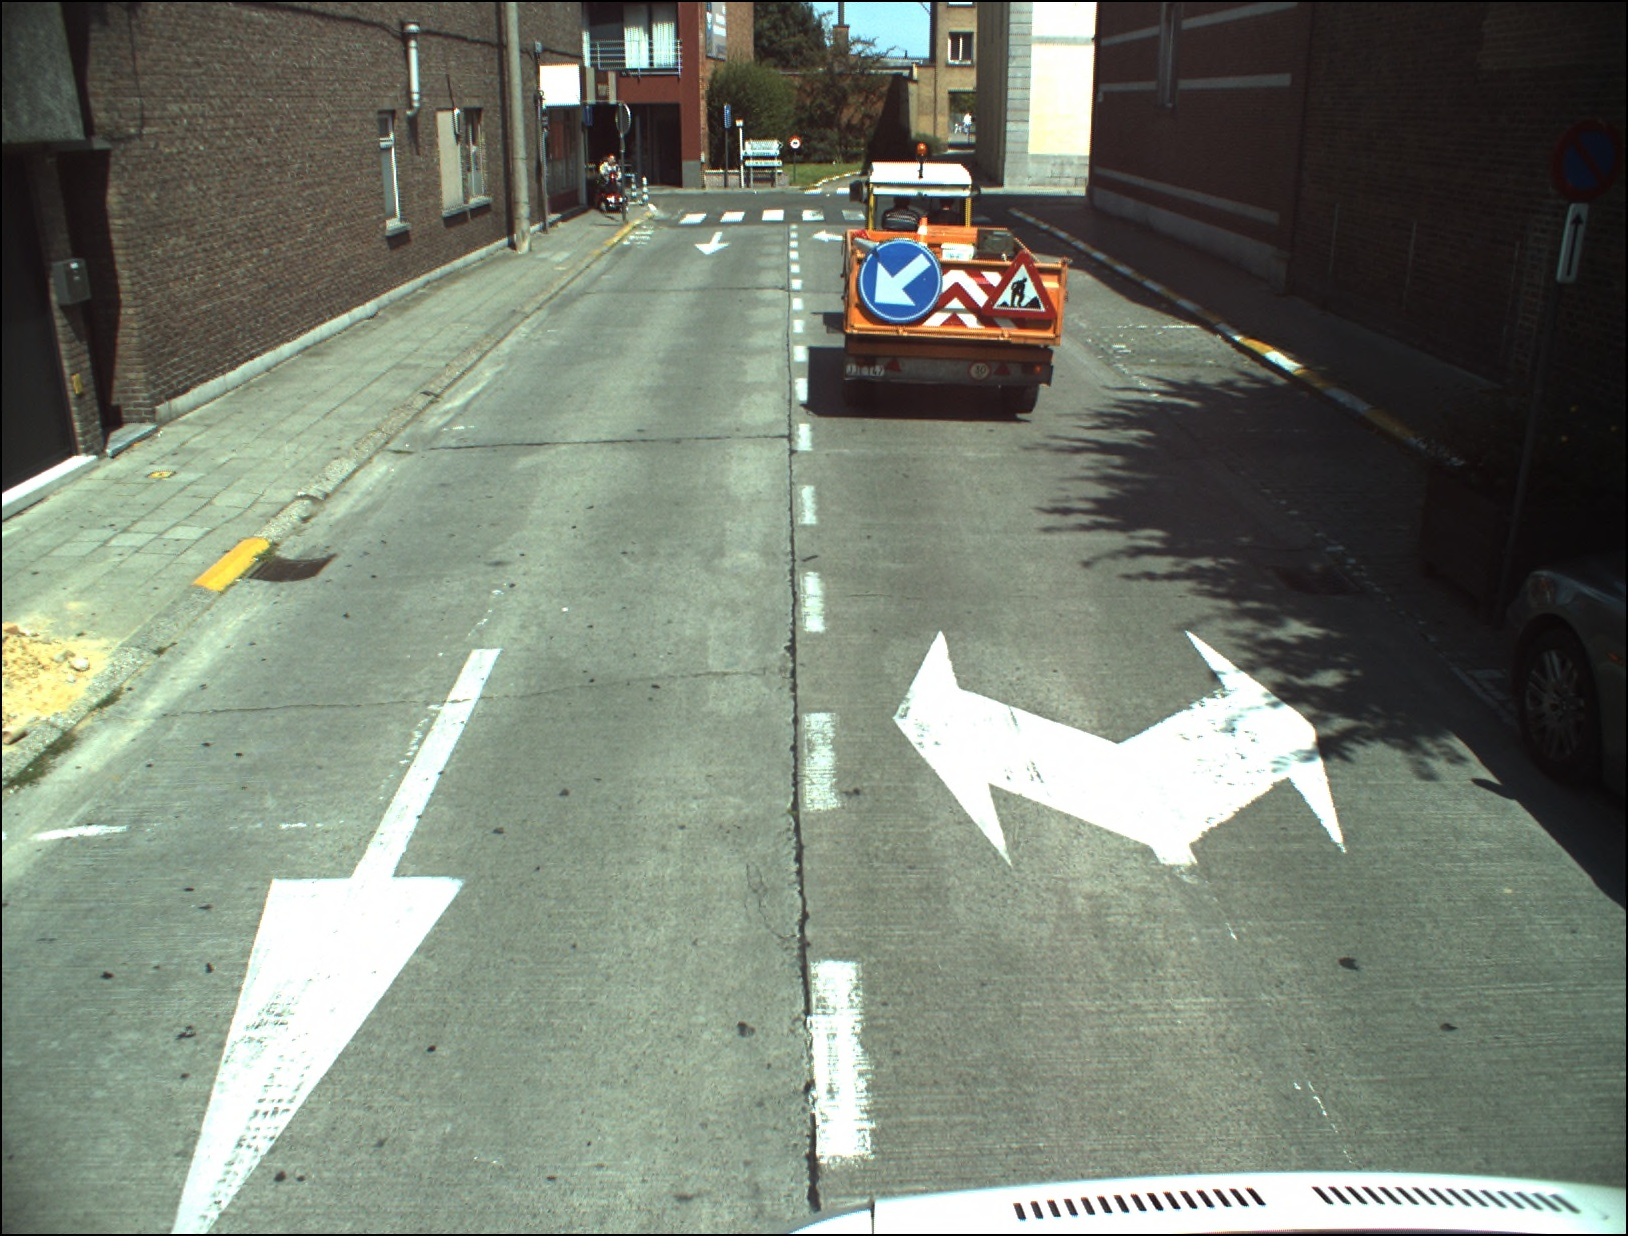construction: (979, 252, 1057, 319)
passleft: (859, 239, 940, 321)
